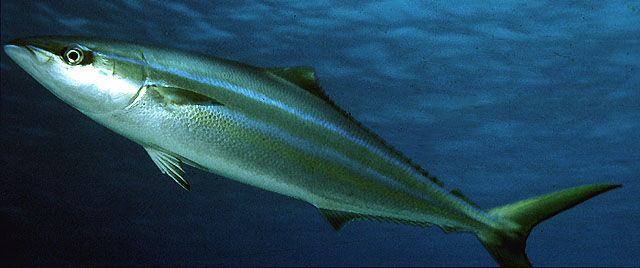fish: (4, 37, 624, 268)
